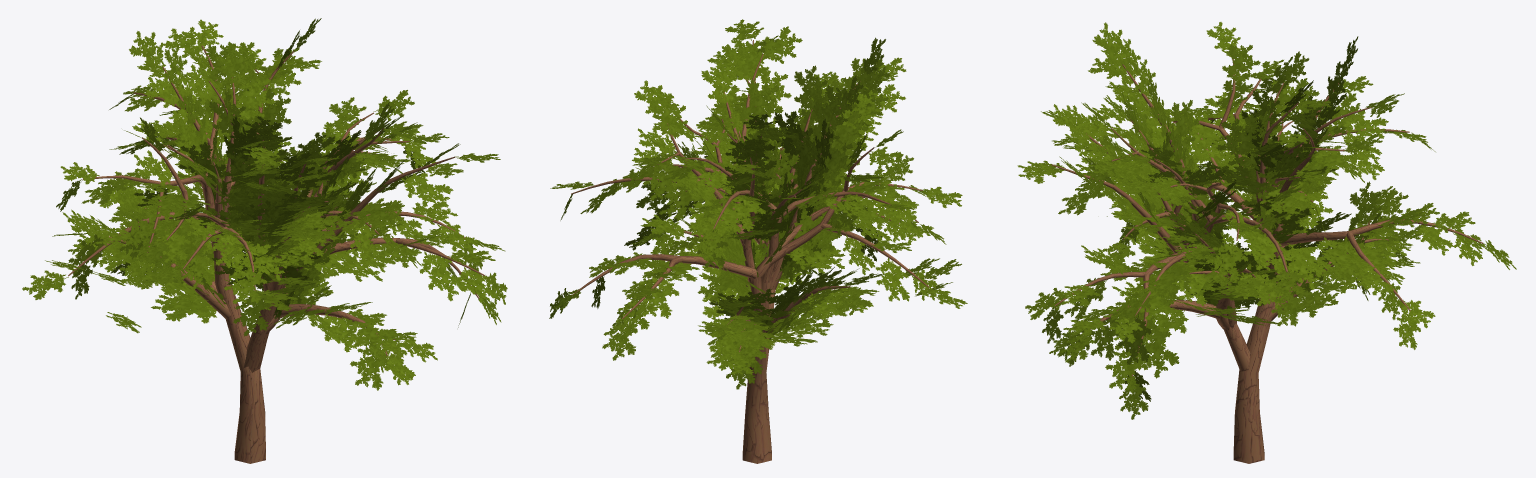
Rendered from Oak.fbx.
The picture shows the model from 3 angles, left to right: view 1: azimuth 30°, elevation 25°; view 2: azimuth 150°, elevation 25°; view 3: azimuth 270°, elevation 25°; orthographic projection. The views are drawn at different scales.
Visible parts, largest first — view 1: OakLeaves_LOD0, Oak_LOD0; view 2: OakLeaves_LOD0, Oak_LOD0; view 3: OakLeaves_LOD0, Oak_LOD0.
Part boxes in pixels (x1=…): OakLeaves_LOD0: x1=22, y1=18, x2=507, y2=390; Oak_LOD0: x1=68, y1=45, x2=484, y2=463; OakLeaves_LOD0: x1=549, y1=19, x2=967, y2=389; Oak_LOD0: x1=571, y1=40, x2=928, y2=463; OakLeaves_LOD0: x1=1017, y1=22, x2=1516, y2=419; Oak_LOD0: x1=1051, y1=59, x2=1483, y2=463.
Size of what is drawn, in the model's own units: 706 by 657 by 759.
